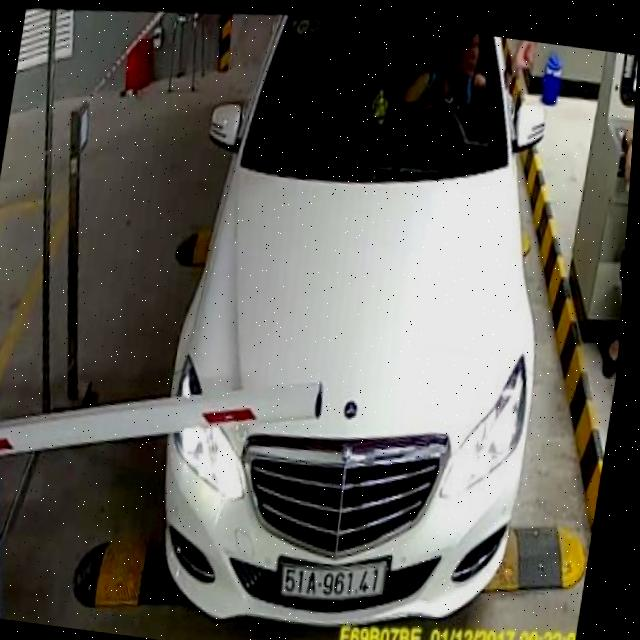car: (129, 8, 586, 640)
plate: (266, 545, 396, 613)
